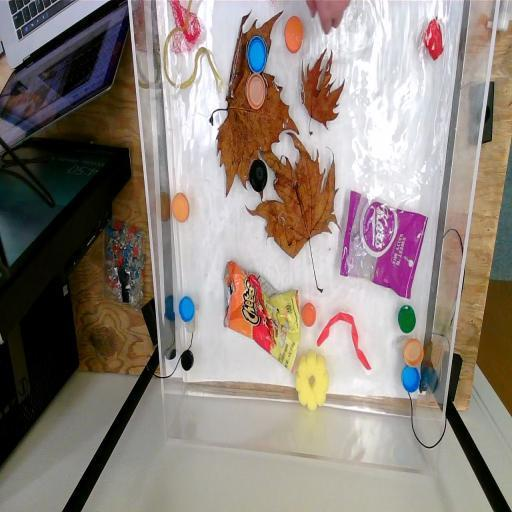Bottle Cap: (242, 71, 268, 112), (243, 32, 268, 74), (282, 15, 307, 54), (170, 189, 192, 225), (176, 292, 198, 328), (402, 337, 426, 369), (396, 302, 418, 336), (399, 364, 422, 396), (249, 159, 269, 194), (301, 299, 317, 329), (178, 347, 196, 371)
Cone Cap: (419, 10, 448, 66)
Leaf: (208, 7, 296, 204), (248, 130, 338, 292), (296, 46, 344, 137)
Netting: (165, 0, 201, 54)
Plastic Bag: (337, 186, 429, 302), (222, 258, 303, 382)
Plastic Strand: (160, 0, 226, 98), (316, 309, 374, 376)
Sponge: (293, 346, 332, 414)
